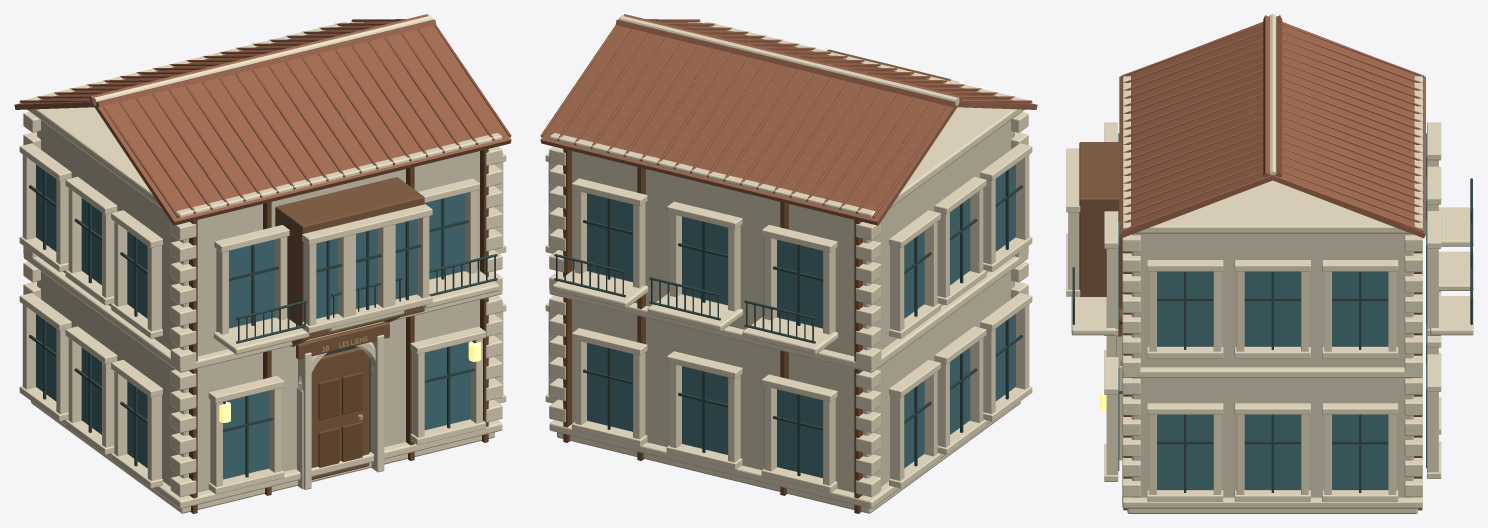
File: turquie-2.glb
The picture shows the model from 3 angles, left to right: view 1: azimuth 30°, elevation 25°; view 2: azimuth 150°, elevation 25°; view 3: azimuth 270°, elevation 25°; orthographic projection. The views are drawn at different scales.
Parts seen in each view (by area): view 1: turquie-2_Dressed stone.002, turquie-2_Regional roof.002, turquie-2_Masonry plaster.002, turquie-2_Window blue, turquie-2_Regional painted wood.002, turquie-2_Forged midnight, turquie-2_Walnut; view 2: turquie-2_Dressed stone.002, turquie-2_Regional roof.002, turquie-2_Masonry plaster.002, turquie-2_Window blue, turquie-2_Forged midnight, turquie-2_Walnut; view 3: turquie-2_Dressed stone.002, turquie-2_Regional roof.002, turquie-2_Masonry plaster.002, turquie-2_Window blue, turquie-2_Regional painted wood.002, turquie-2_Forged midnight, turquie-2_Walnut.
Part boxes in pixels (<box>): turquie-2_Dressed stone.002: <box>19,15,506,513</box>; turquie-2_Regional roof.002: <box>14,14,511,225</box>; turquie-2_Masonry plaster.002: <box>37,120,488,492</box>; turquie-2_Window blue: <box>36,164,470,479</box>; turquie-2_Regional painted wood.002: <box>275,177,424,479</box>; turquie-2_Forged midnight: <box>29,169,497,477</box>; turquie-2_Walnut: <box>189,149,488,513</box>; turquie-2_Dressed stone.002: <box>545,15,1032,513</box>; turquie-2_Regional roof.002: <box>540,14,1037,225</box>; turquie-2_Masonry plaster.002: <box>563,120,1014,492</box>; turquie-2_Window blue: <box>587,164,1015,477</box>; turquie-2_Forged midnight: <box>554,169,1022,476</box>; turquie-2_Walnut: <box>563,149,862,513</box>; turquie-2_Dressed stone.002: <box>1066,14,1473,513</box>; turquie-2_Regional roof.002: <box>1119,15,1425,238</box>; turquie-2_Masonry plaster.002: <box>1131,233,1413,497</box>; turquie-2_Window blue: <box>1118,133,1426,489</box>; turquie-2_Regional painted wood.002: <box>1079,142,1123,336</box>; turquie-2_Forged midnight: <box>1072,178,1472,492</box>; turquie-2_Walnut: <box>1119,251,1422,510</box>.
Size of the model in its own units: 13.94 by 13.63 by 14.45.
